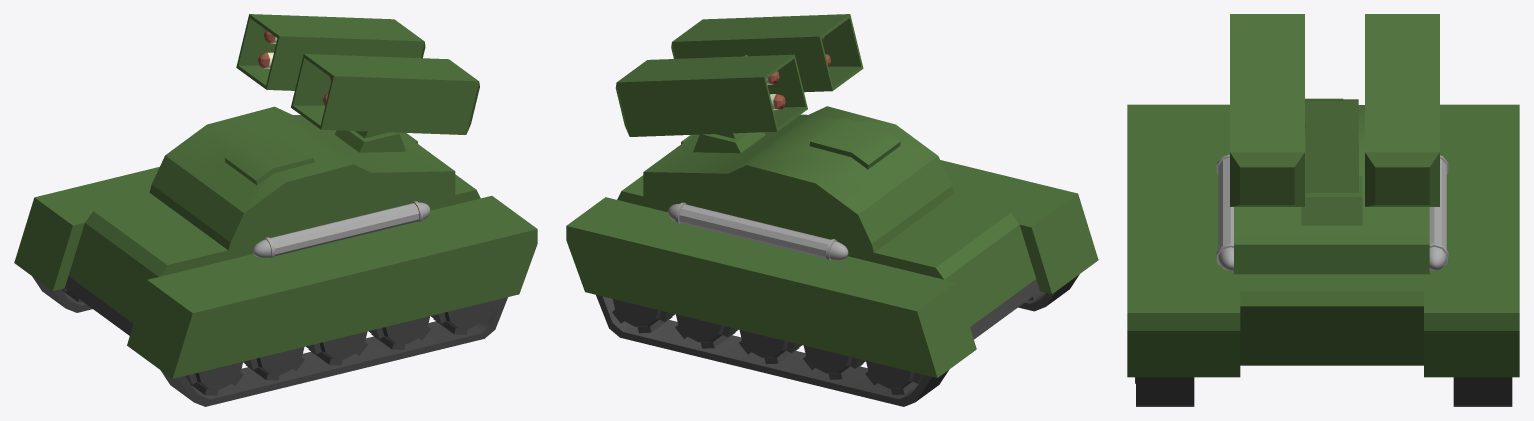
Rendered from VRH Rocket Tank Model FBX.fbx.
3 views of the same model, side by side, from view 1: azimuth 30°, elevation 25°; view 2: azimuth 150°, elevation 25°; view 3: azimuth 270°, elevation 25° (orthographic). The views are drawn at different scales.
Parts seen in each view (by area): view 1: Body, Head, pasted__Box352, pasted__Box174, pasted__Object357, Treads, pasted__pCylinder3, pasted__Object359, pasted__Object354, pasted__Cylinder334, pasted__Cylinder336, pasted__Cylinder335 (+4 smaller); view 2: Body, Head, pasted__Box174, pasted__Box352, pasted__Object358, Treads, pasted__pCylinder3, pasted__Object359, pasted__Object354, pasted__Cylinder339, pasted__Cylinder340, pasted__Cylinder341 (+4 smaller); view 3: Body, pasted__Box352, pasted__Box174, Head, Upper_Neck, Treads, pasted__pCylinder3, Neck, pasted__Object354.
Boxes of the visible parts, box(x1,y1,x2,y2) form: Body: box(14, 133, 537, 378); Head: box(151, 106, 455, 242); pasted__Box352: box(291, 54, 479, 134); pasted__Box174: box(236, 14, 425, 90); pasted__Object357: box(184, 255, 533, 375); Treads: box(32, 276, 507, 406); pasted__pCylinder3: box(253, 201, 430, 257); pasted__Object359: box(224, 134, 314, 185); pasted__Object354: box(149, 185, 455, 250); pasted__Cylinder334: box(243, 347, 304, 380); pasted__Cylinder336: box(368, 316, 430, 349); pasted__Cylinder335: box(306, 331, 367, 365); Body: box(566, 134, 1098, 377); Head: box(643, 106, 951, 243); pasted__Box174: box(615, 54, 807, 136); pasted__Box352: box(671, 14, 863, 92); pasted__Object358: box(570, 251, 925, 374); Treads: box(596, 274, 1079, 406); pasted__pCylinder3: box(668, 202, 848, 260); pasted__Object359: box(809, 118, 900, 169); pasted__Object354: box(643, 186, 953, 252); pasted__Cylinder339: box(675, 314, 737, 348); pasted__Cylinder340: box(739, 330, 801, 364); pasted__Cylinder341: box(803, 345, 865, 379); Body: box(1127, 104, 1519, 377); pasted__Box352: box(1230, 14, 1304, 206); pasted__Box174: box(1365, 14, 1439, 206); Head: box(1234, 105, 1429, 265); Upper_Neck: box(1305, 99, 1358, 192); Treads: box(1136, 377, 1512, 406); pasted__pCylinder3: box(1216, 154, 1448, 270); Neck: box(1301, 176, 1362, 225); pasted__Object354: box(1234, 265, 1429, 274).
Bounding box in the file's own units: 42.24 × 29.01 × 31.74.
